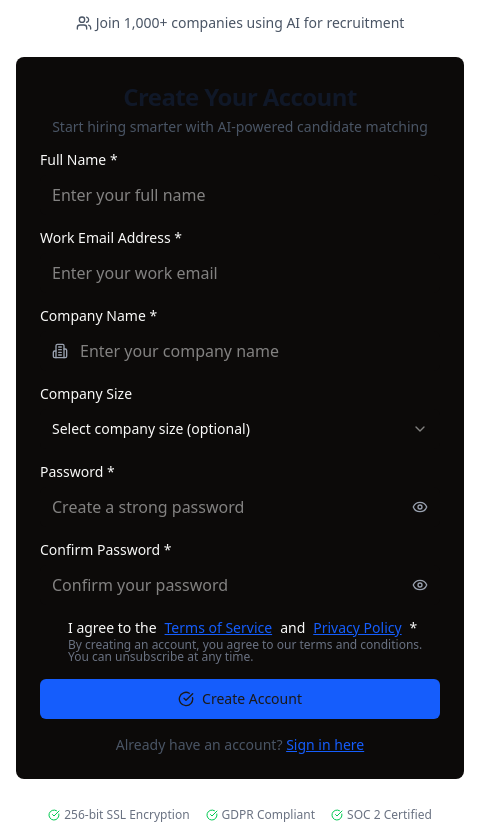
EnhancedSignUpForm › Form Validation › shows email suggestions for typos
Type "test@gmial.com" into the field labelled "Work Email Address *". click: (240, 273)
box: [40,253,440,293]
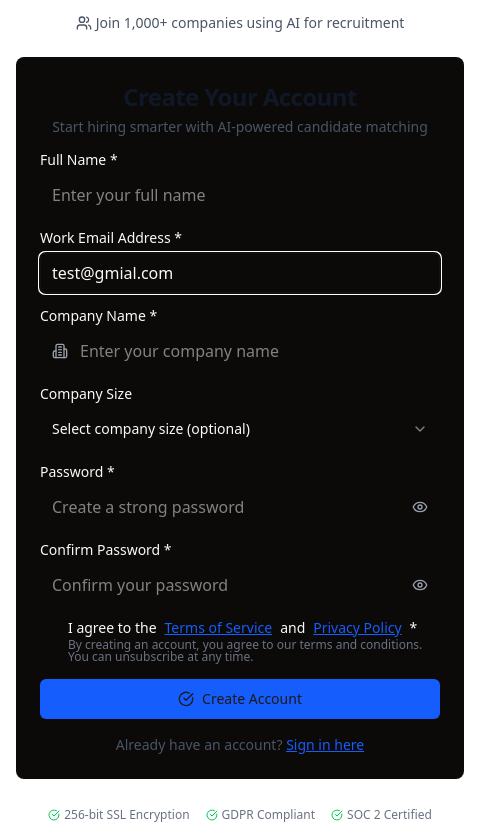
Press Tab
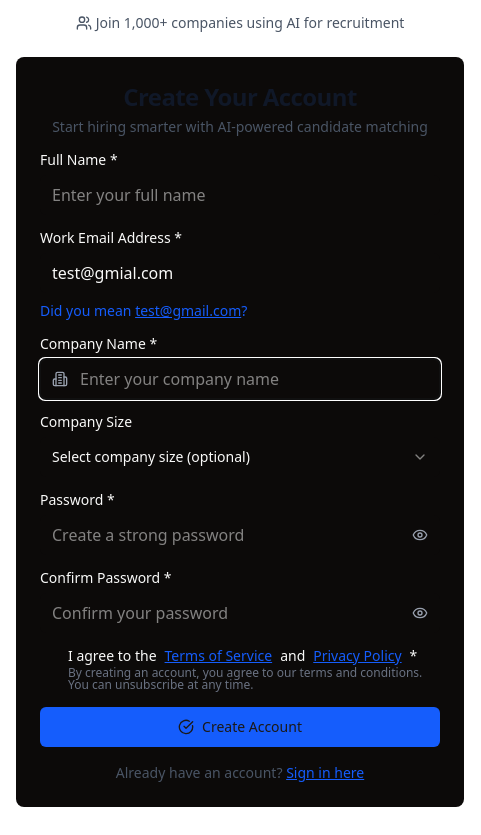
Now the text "Did you mean test@gmail.com ?" is shown, box [40,301,247,321]
Now the button "test@gmail.com" is shown, box [135,301,241,321]
